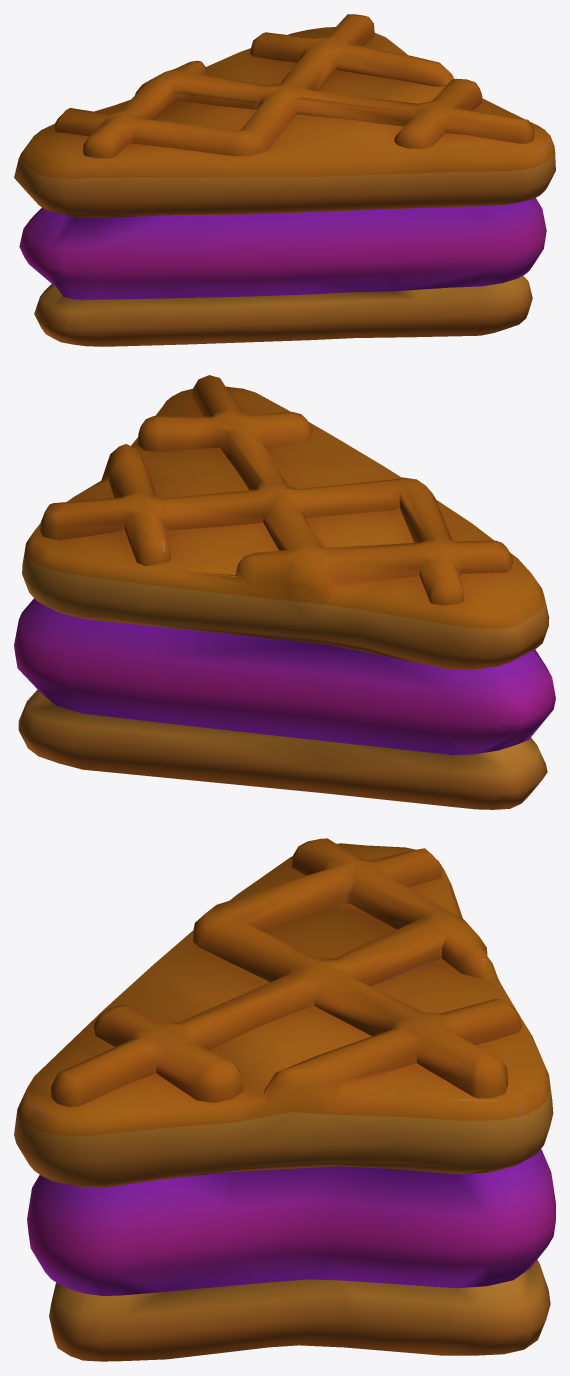
Rendered from IceCreamSandwich.glb.
3 views of the same model, one above another, from view 1: azimuth 30°, elevation 25°; view 2: azimuth 150°, elevation 25°; view 3: azimuth 270°, elevation 25° (orthographic). The views are drawn at different scales.
Parts seen in each view (by area): view 1: geometry_0; view 2: geometry_0; view 3: geometry_0.
Boxes of the visible parts, x1,y1,x2,y2 form: geometry_0: [14, 14, 555, 346]; geometry_0: [14, 375, 555, 809]; geometry_0: [14, 838, 555, 1361].
Size of the model in its own units: 0.9995 by 0.4727 by 0.7935.
1 material, 1 textured.
